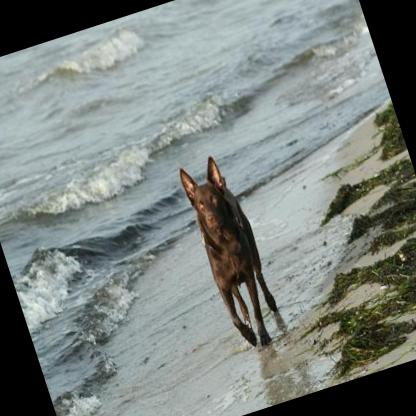kelpie: (174, 149, 288, 356)
